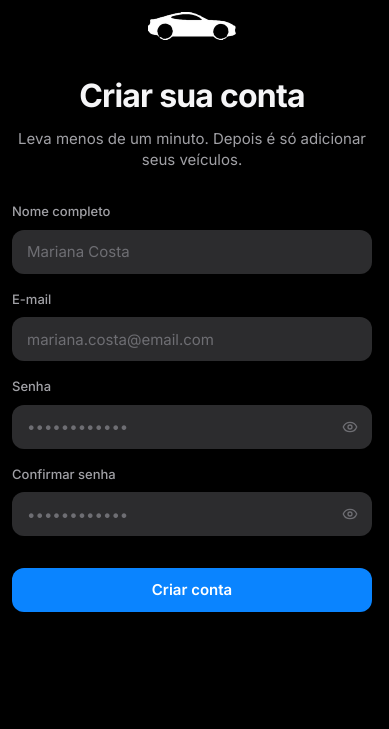
it: RegisterForm › explica quando o e-mail já está cadastrado (409)
This screenshot has width=389, height=729.
Type "Ana Souza" into the field labelled "Nome completo" at (192, 252), box [12, 230, 372, 274]
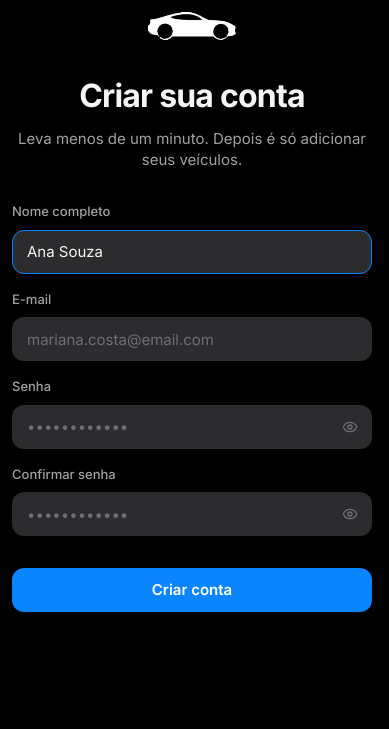
Type "ana@email.com" into the field labelled "E-mail" at (192, 339), box [12, 317, 372, 361]
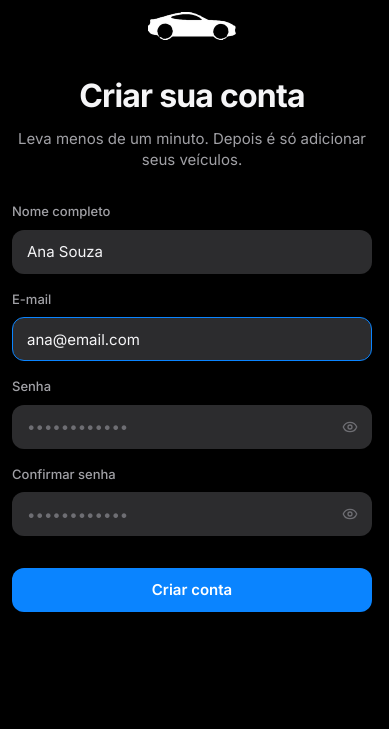
Type "Senha1234" into the password field labelled "Senha" at (192, 426), box [12, 404, 372, 448]
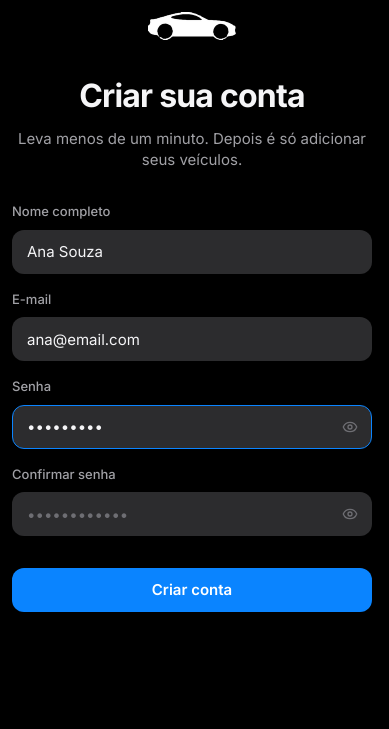
Type "Senha1234" into the password field labelled "Confirmar senha" at (192, 514), box [12, 492, 372, 536]
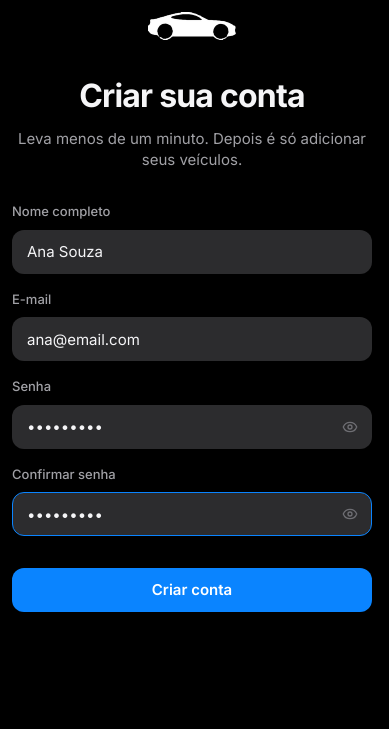
Click the button "Criar conta" at (192, 590), box [12, 568, 372, 612]
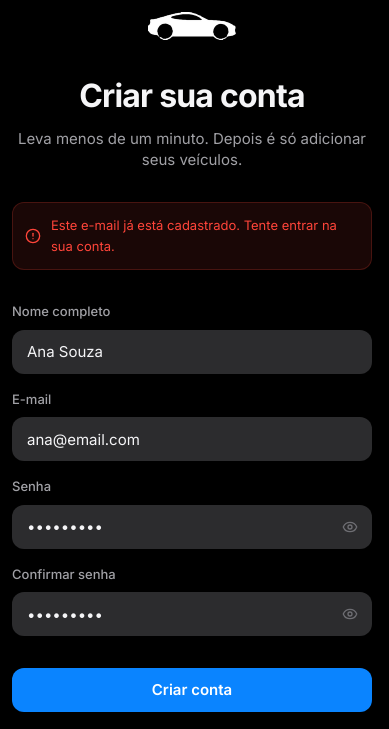
Expected: the message shows "Este e-mail já está cadastrado", [51, 217, 337, 254]
